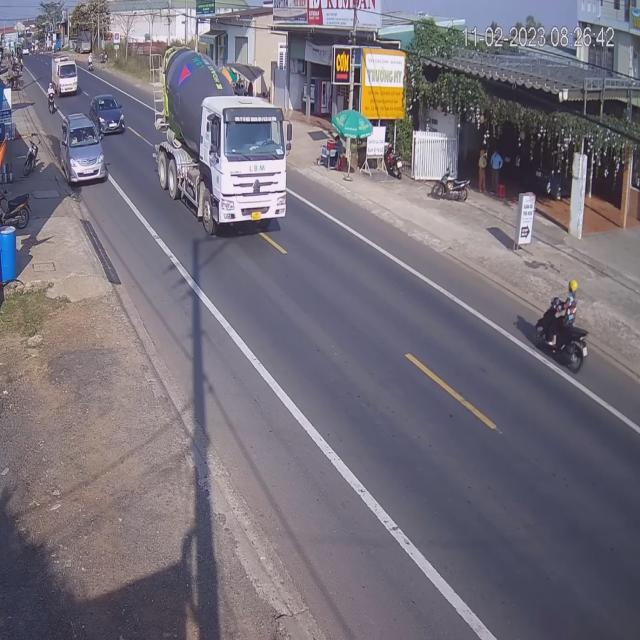car: (93, 94, 126, 136), (51, 52, 80, 98)
motorbike: (536, 278, 590, 369)
truck: (156, 49, 288, 227), (61, 112, 108, 188)
